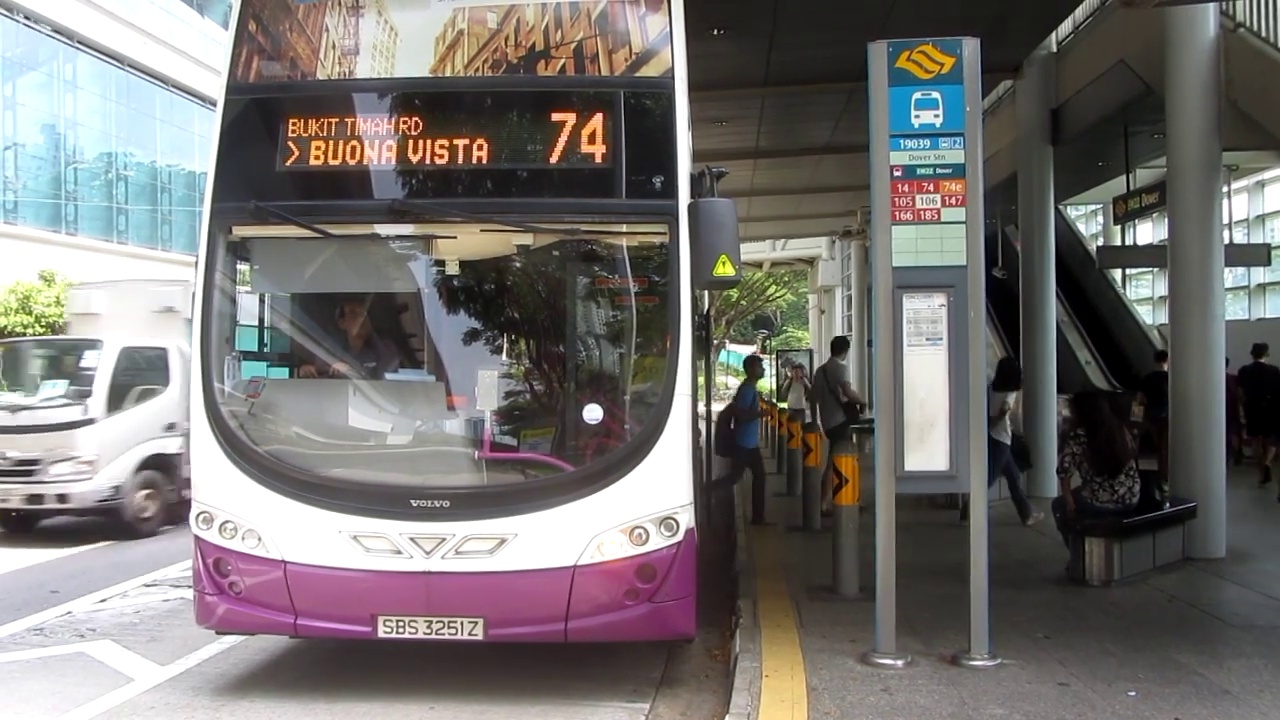bus panel: (272, 107, 616, 175)
